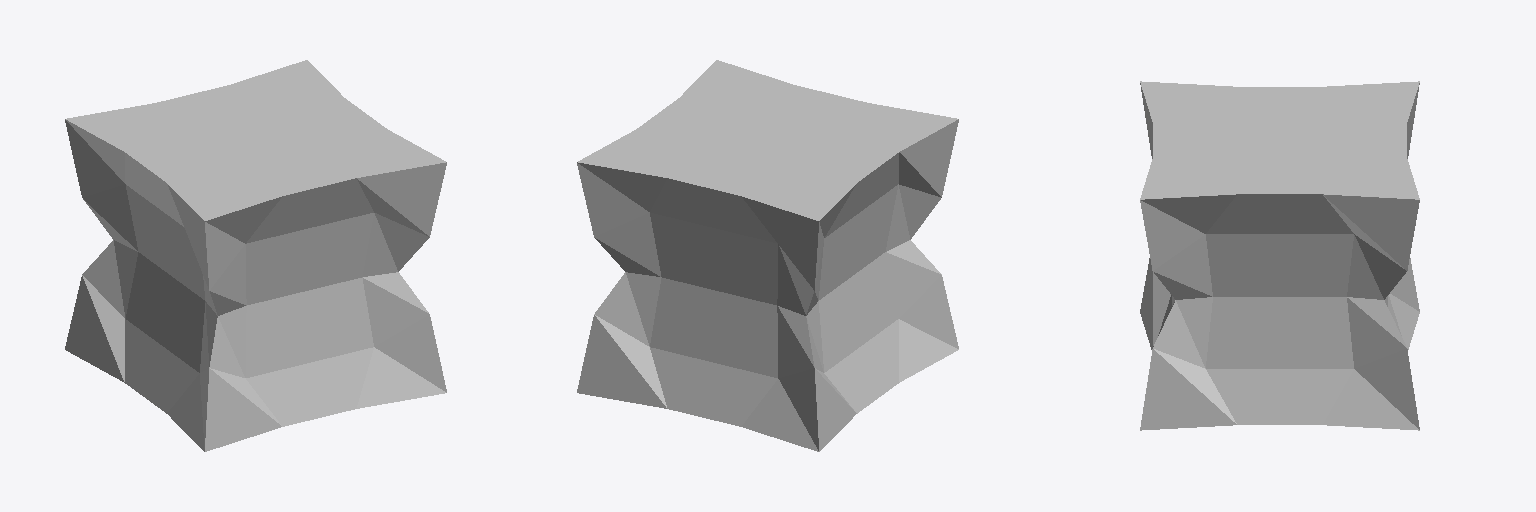
File: ObjA.obj
The picture shows the model from 3 angles: view 1: azimuth 30°, elevation 25°; view 2: azimuth 150°, elevation 25°; view 3: azimuth 270°, elevation 25°; orthographic projection.
Parts seen in each view (by area): view 1: Cube_Cube.001; view 2: Cube_Cube.001; view 3: Cube_Cube.001.
Part boxes in pixels (x1,y1,x2,y2): Cube_Cube.001: (65,60,446,451); Cube_Cube.001: (577,60,958,451); Cube_Cube.001: (1140,81,1419,430).
Size of the model in its own units: 2.2 by 2 by 2.2.